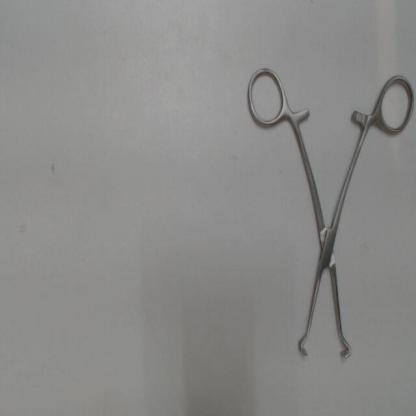Babcock Tissue Forceps: (235, 62, 414, 366)
